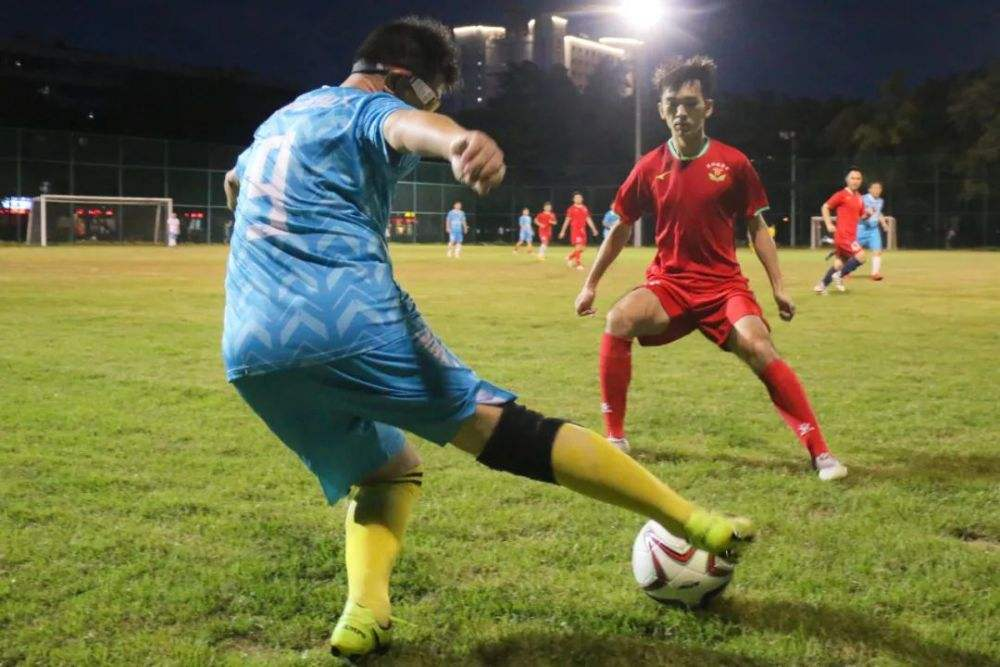football: (634, 511, 741, 610)
